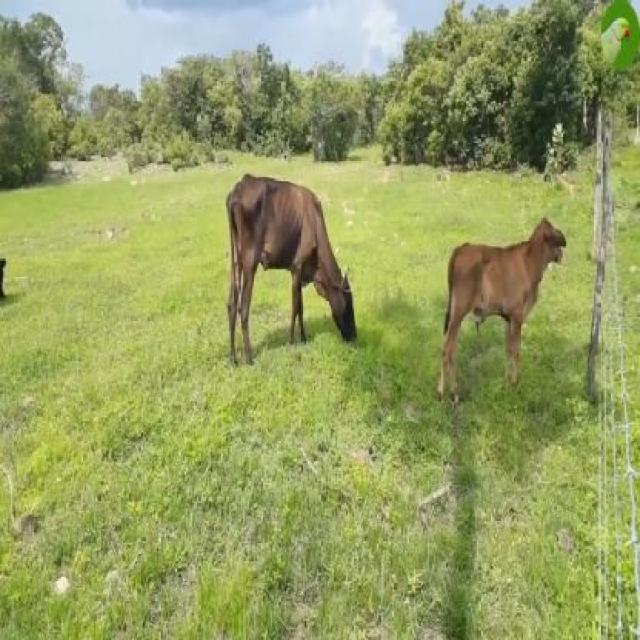Cow: (228, 171, 357, 375), (438, 220, 564, 403)
